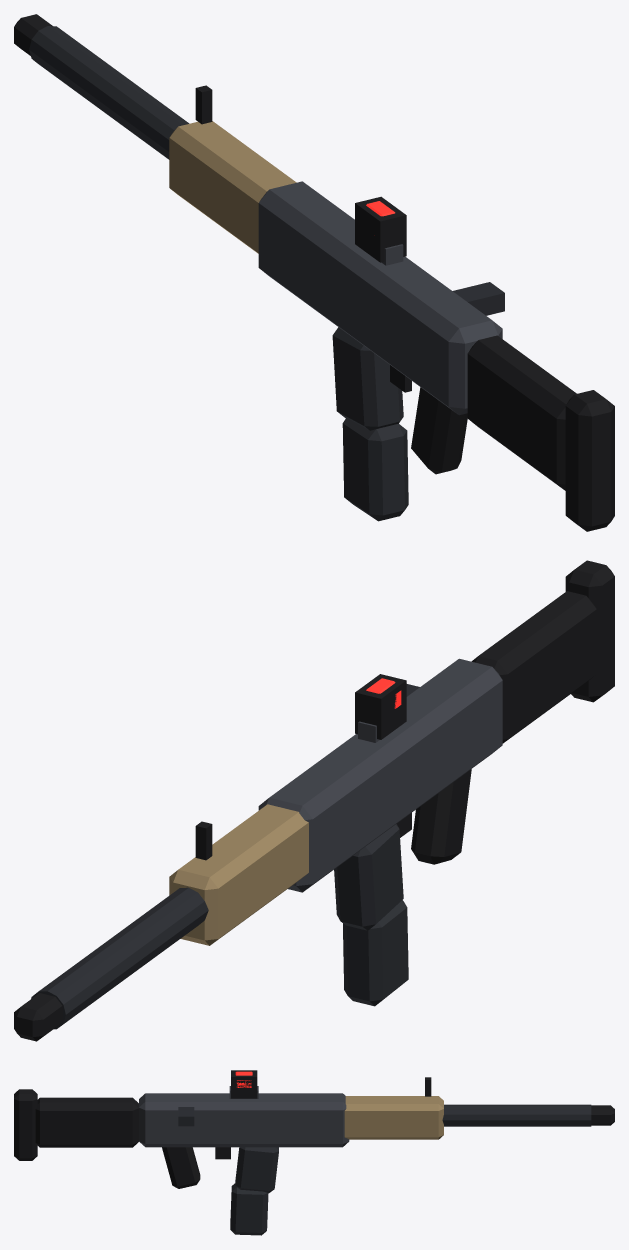
File: wep_ar.glb
3 renders of one model, top to bottom at view 1: azimuth 30°, elevation 25°; view 2: azimuth 150°, elevation 25°; view 3: azimuth 270°, elevation 25°, orthographic. The views are drawn at different scales.
Parts seen in each view (by area): view 1: wep_ar; view 2: wep_ar; view 3: wep_ar.
Part boxes in pixels (x1,y1,x2,y2): wep_ar: (14,14,614,531); wep_ar: (14,560,614,1041); wep_ar: (14,1070,614,1235).
Size of the model in its own units: 0.101 by 0.3348 by 1.14.
